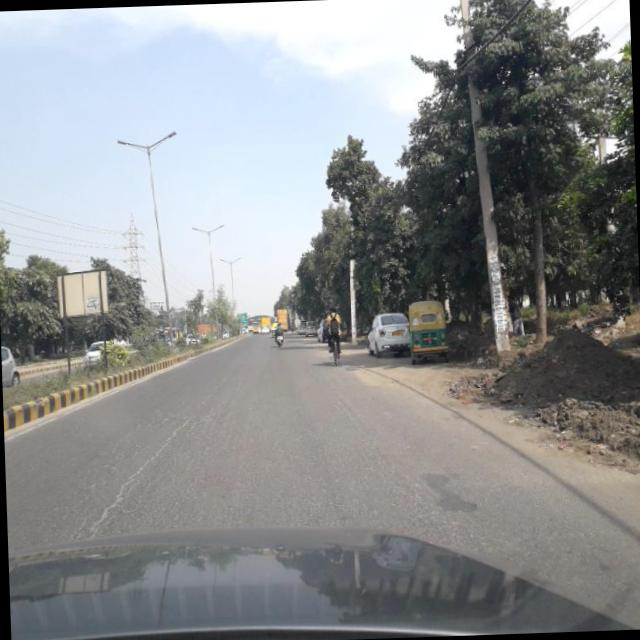crack: (142, 388, 220, 466), (77, 466, 147, 536)
